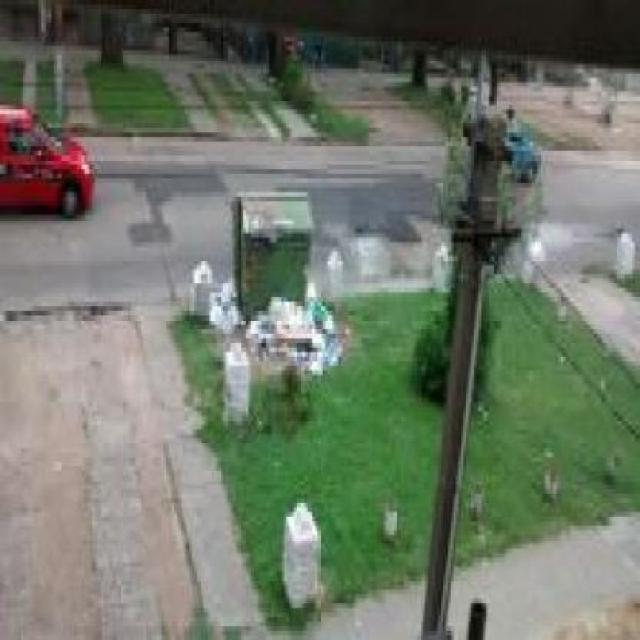garbage: (197, 297, 324, 374)
